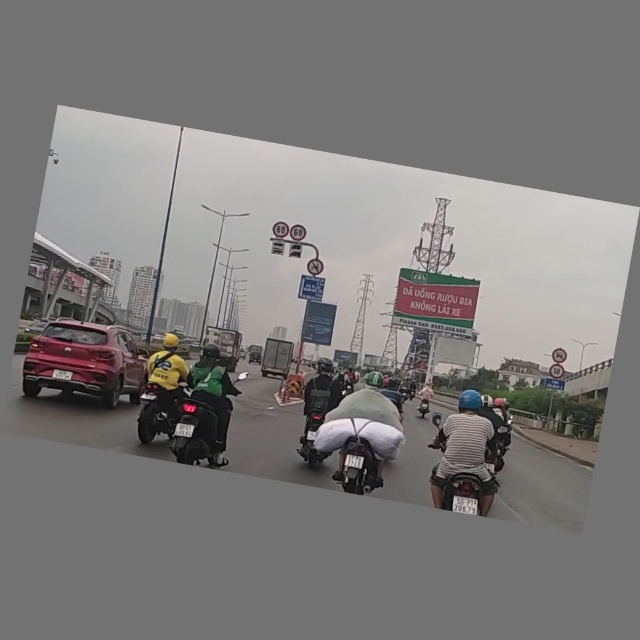P.103a: (550, 347, 568, 367)
P.104: (304, 257, 326, 277)
P.127*50: (549, 364, 565, 381)
P.127*60: (290, 224, 308, 242)
P.127*80: (272, 221, 289, 239)
